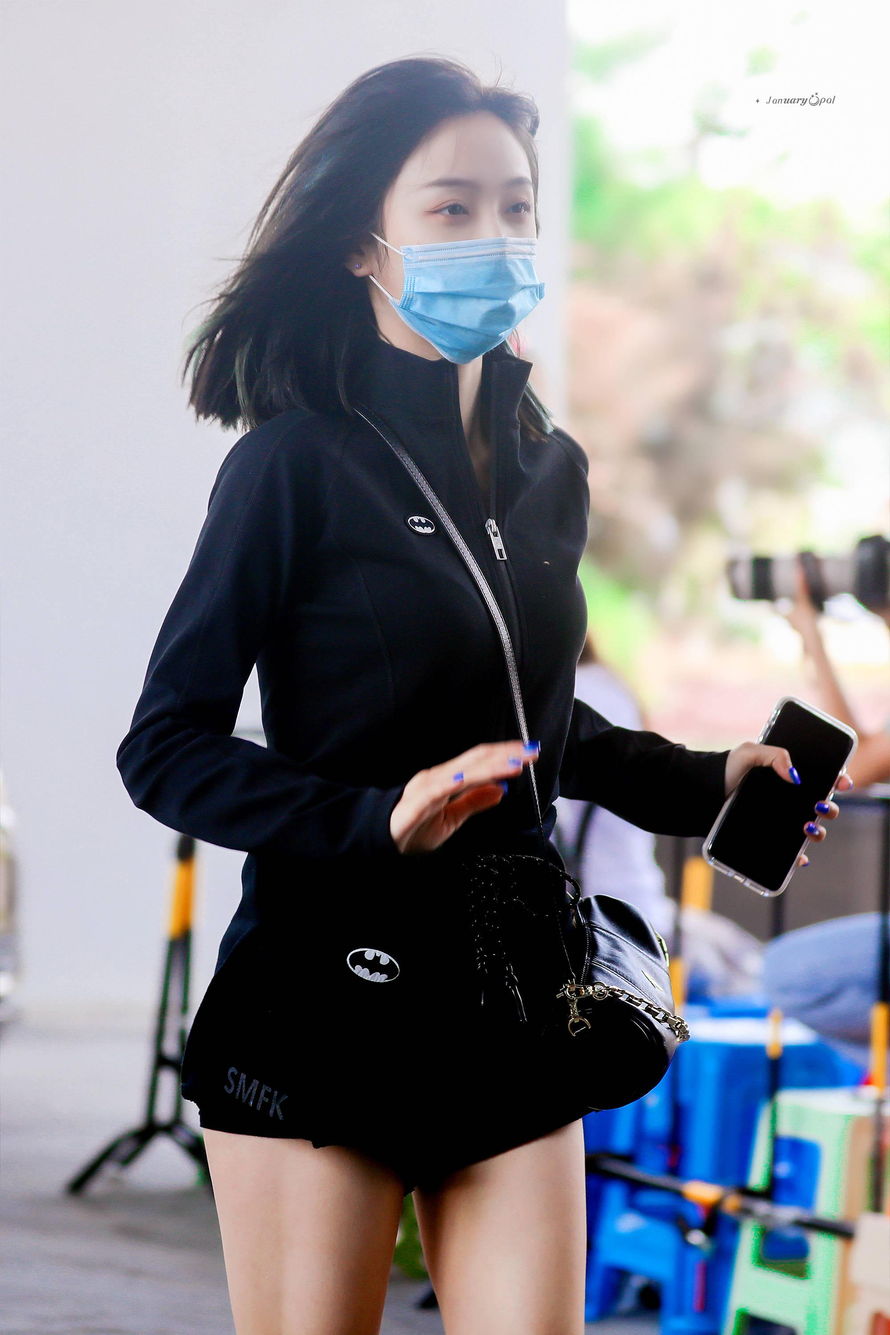OK: (392, 146, 544, 363)
